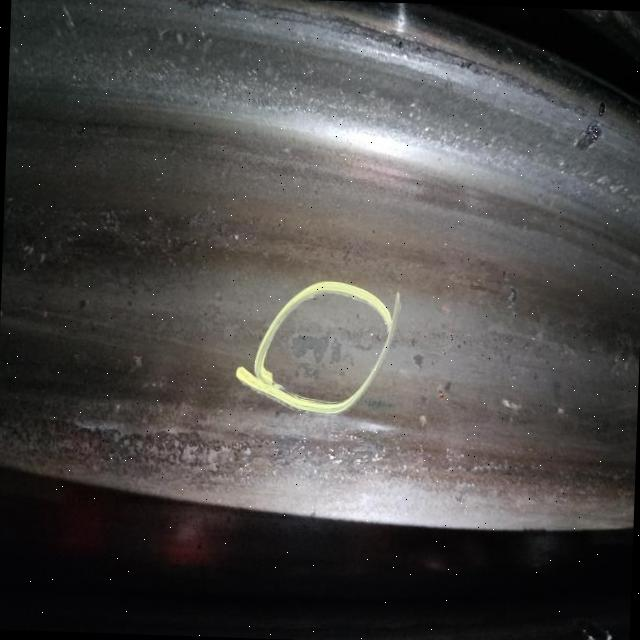Peeling: (290, 323, 378, 385)
